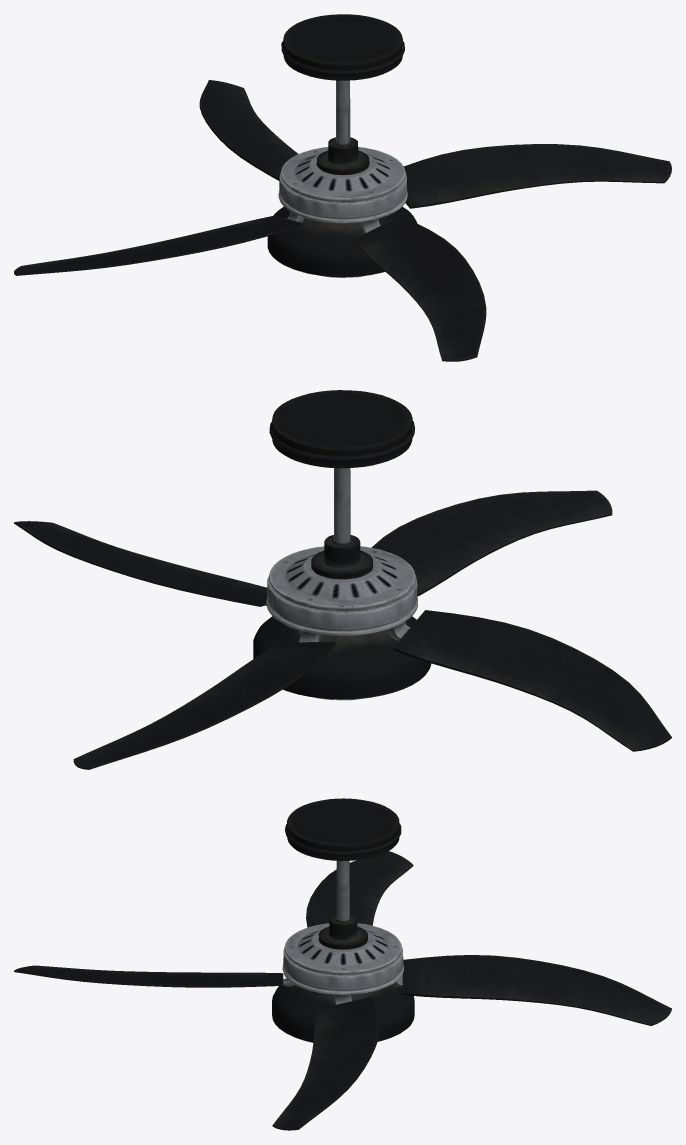
File: ceiling_fan.glb
The picture shows the model from 3 angles, top to bottom: view 1: azimuth 30°, elevation 25°; view 2: azimuth 150°, elevation 25°; view 3: azimuth 270°, elevation 25°; orthographic projection. The views are drawn at different scales.
Parts seen in each view (by area): view 1: ceiling_fan_blades, ceiling_fan; view 2: ceiling_fan_blades, ceiling_fan; view 3: ceiling_fan_blades, ceiling_fan.
Boxes of the visible parts, left/top/right/bottom form: ceiling_fan_blades: left=14, top=80, right=671, bottom=361; ceiling_fan: left=267, top=14, right=416, bottom=277; ceiling_fan_blades: left=14, top=490, right=671, bottom=769; ceiling_fan: left=253, top=390, right=431, bottom=700; ceiling_fan_blades: left=14, top=851, right=671, bottom=1130; ceiling_fan: left=272, top=798, right=414, bottom=1042.
Bounding box in the file's own units: 1.46 × 0.5164 × 1.46.
1 material, 1 textured.
